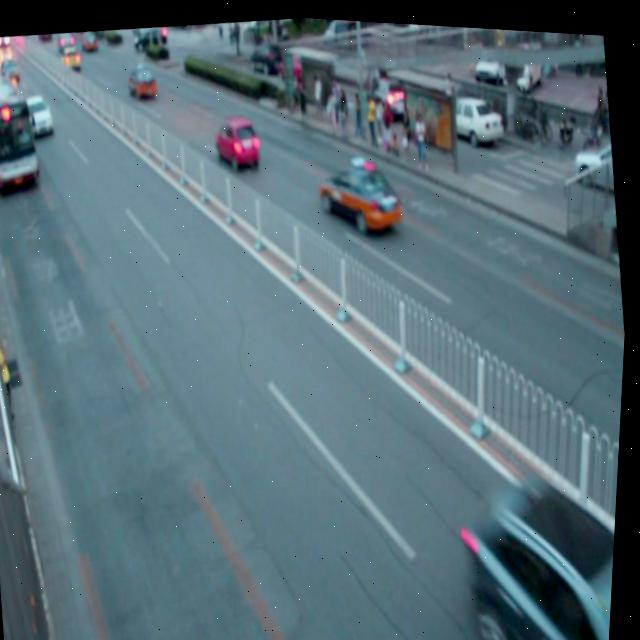car: (455, 455, 622, 640), (317, 152, 406, 235), (212, 110, 264, 171), (126, 60, 161, 106), (22, 94, 57, 137)
van: (0, 70, 45, 189)
